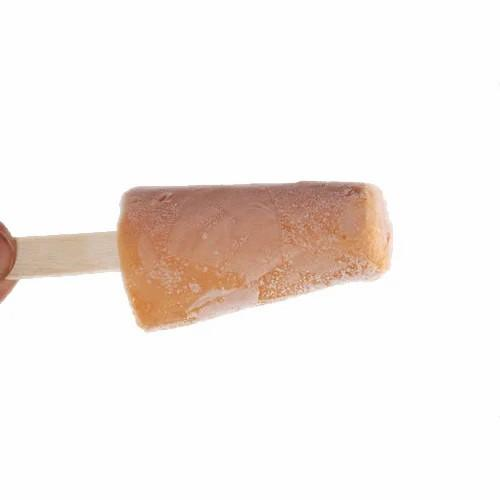Kulfi: (115, 181, 391, 331)
